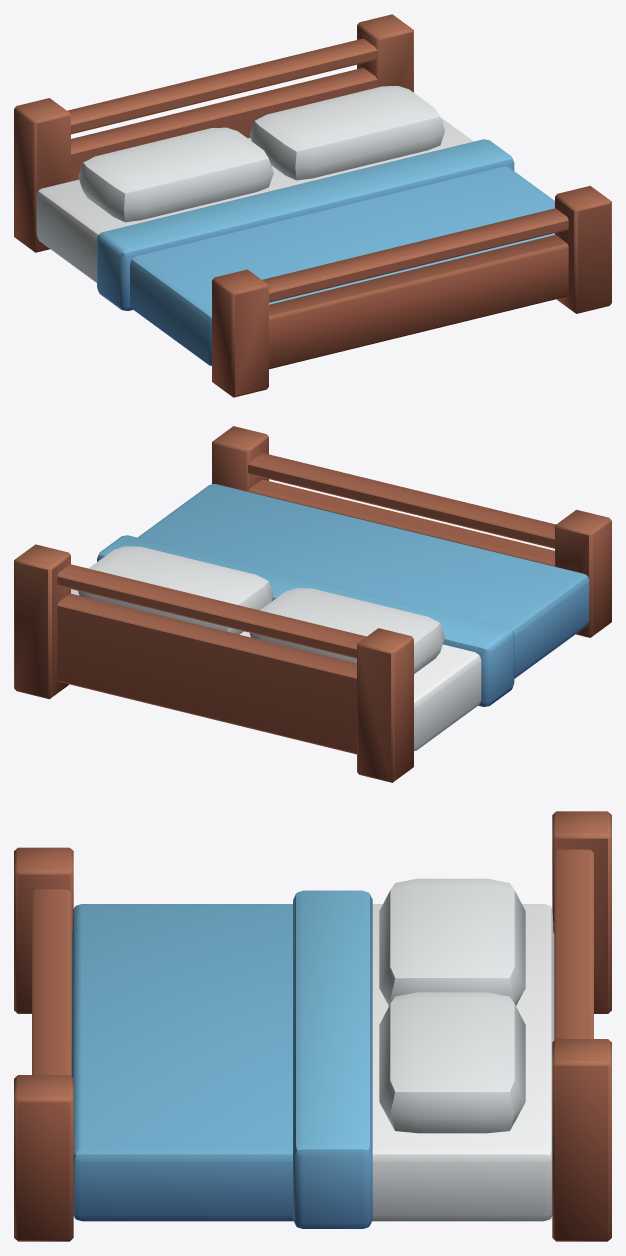
The model's file is bed-double-b.glb.
3 renders of one model, top to bottom at view 1: azimuth 30°, elevation 25°; view 2: azimuth 150°, elevation 25°; view 3: azimuth 270°, elevation 25°, orthographic. The views are drawn at different scales.
Visible parts, largest first — view 1: bed_double_B; view 2: bed_double_B; view 3: bed_double_B.
Boxes of the visible parts, <box> form: bed_double_B: <box>14,14,611,397</box>; bed_double_B: <box>14,426,611,782</box>; bed_double_B: <box>14,811,611,1241</box>.
Size of the model in its own units: 3.1 by 1 by 3.
